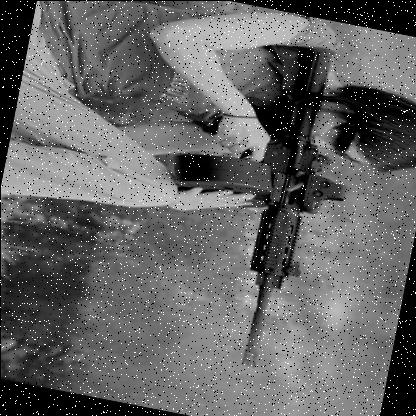rifle: (138, 21, 376, 381)
